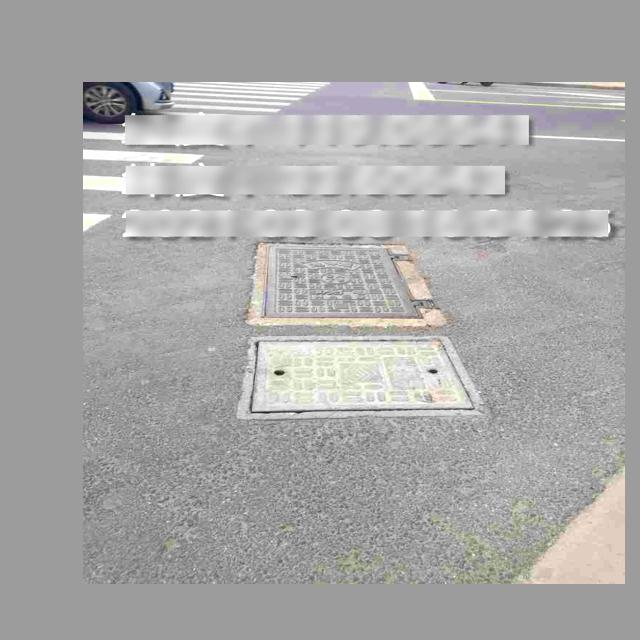good: (236, 336, 486, 416), (262, 241, 441, 320)
